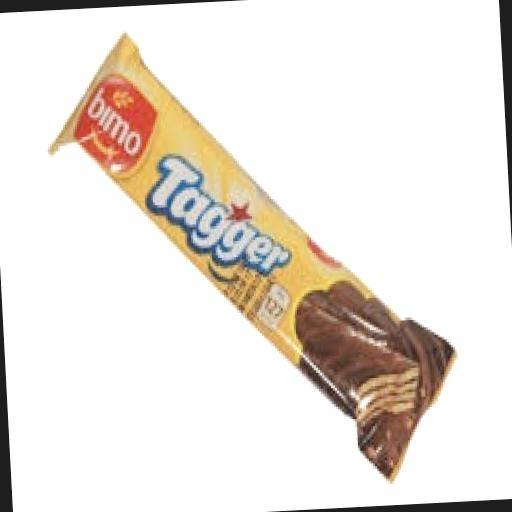tagger: (38, 2, 487, 484)
